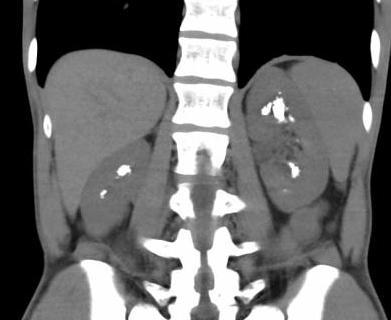Tas_Var: (272, 96, 287, 125), (114, 162, 136, 176), (258, 101, 272, 118), (288, 166, 302, 180), (287, 113, 297, 125), (99, 188, 109, 196), (114, 174, 122, 182), (281, 186, 289, 194), (294, 138, 302, 145), (288, 162, 296, 168), (276, 90, 284, 96), (284, 105, 290, 111), (100, 196, 106, 199)
